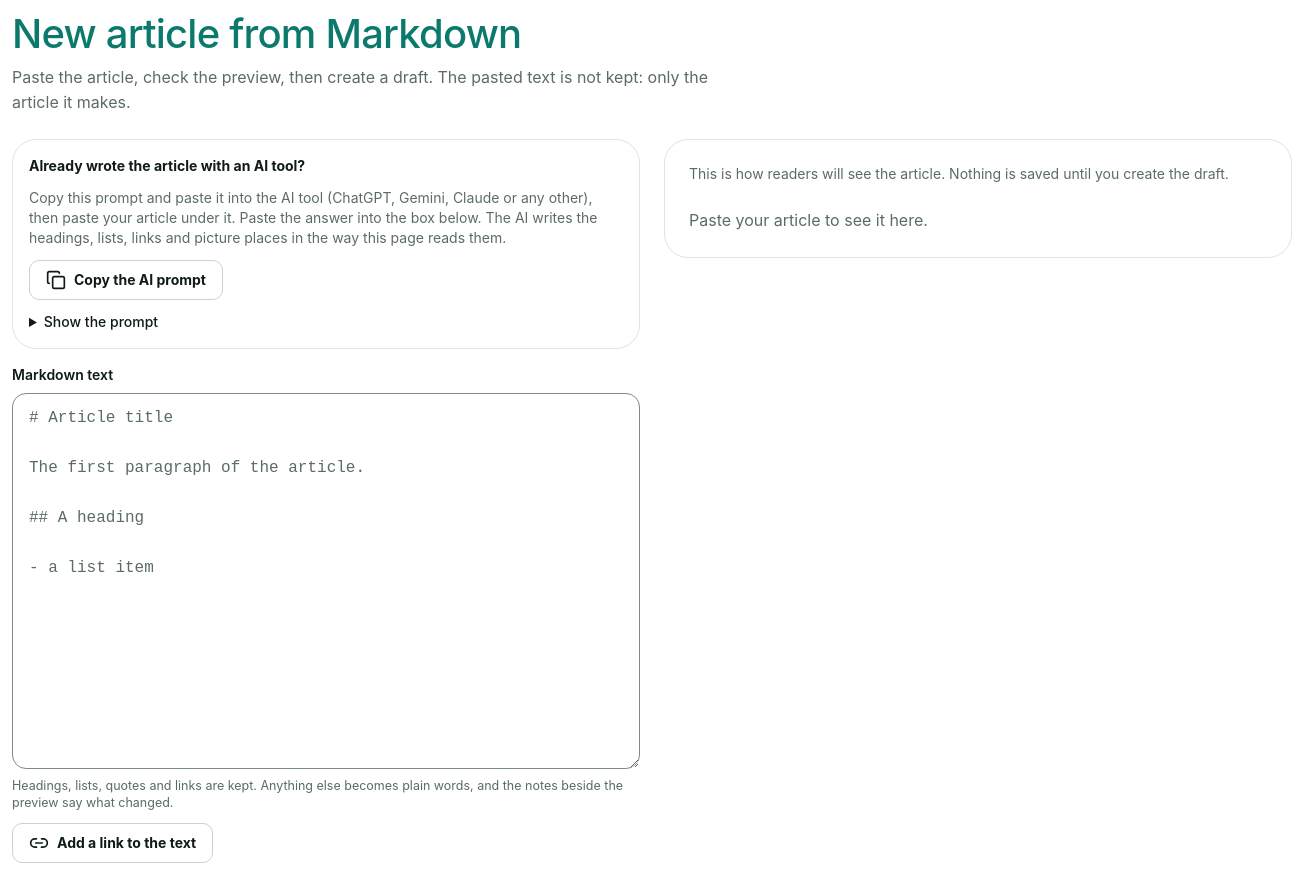
Test: BlogMarkdownFlow: the paste screen (ADR-172) › adds a link to the pasted text with the Add link form (ADR-173)
The width and height of the screenshot is (1292, 870).
Replace the text in the text box labelled "Markdown text" with "Read the guide.": x=326, y=581 [12,393,640,769]
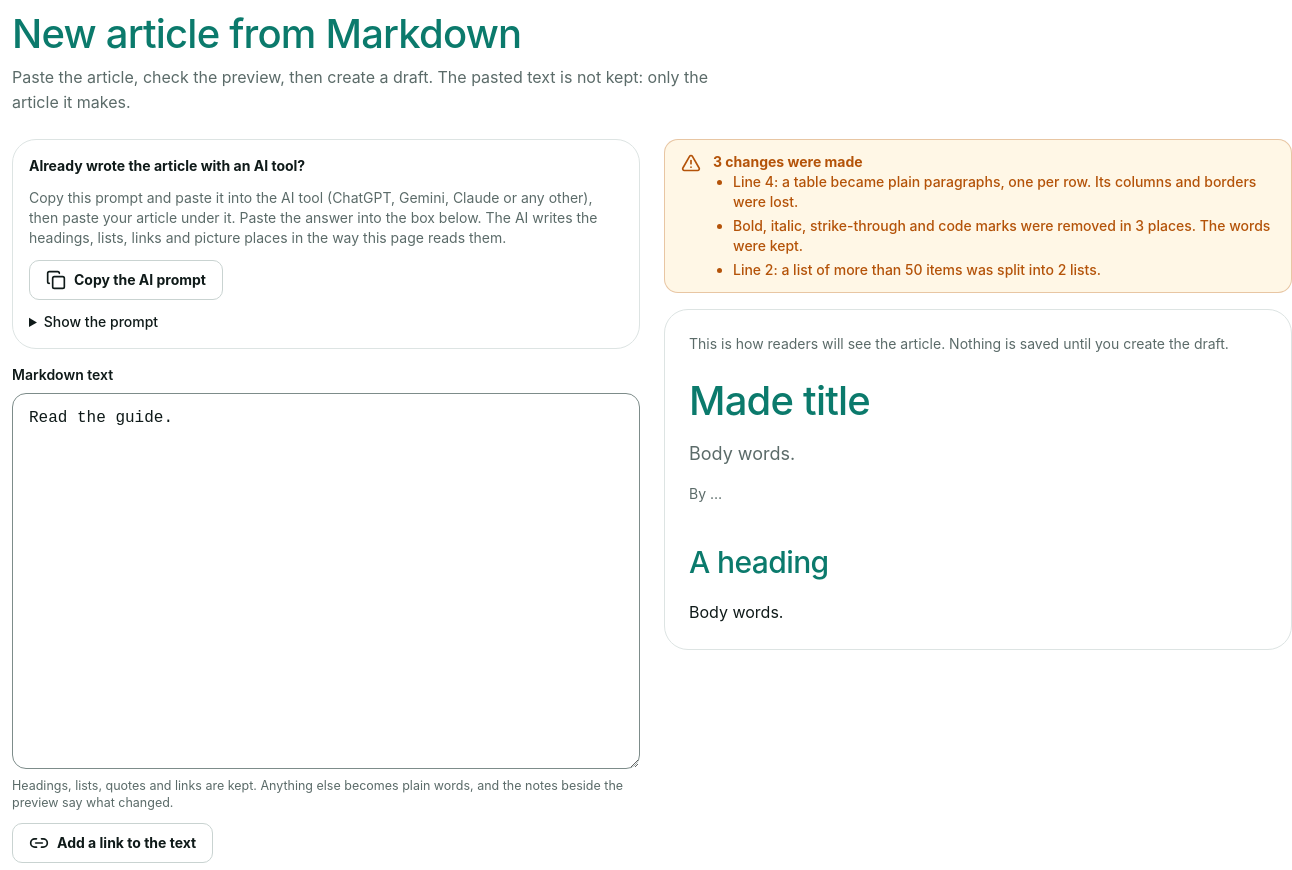
Click the button "Add a link to the text": x=113, y=843 [12,823,213,863]
(page scrolled)
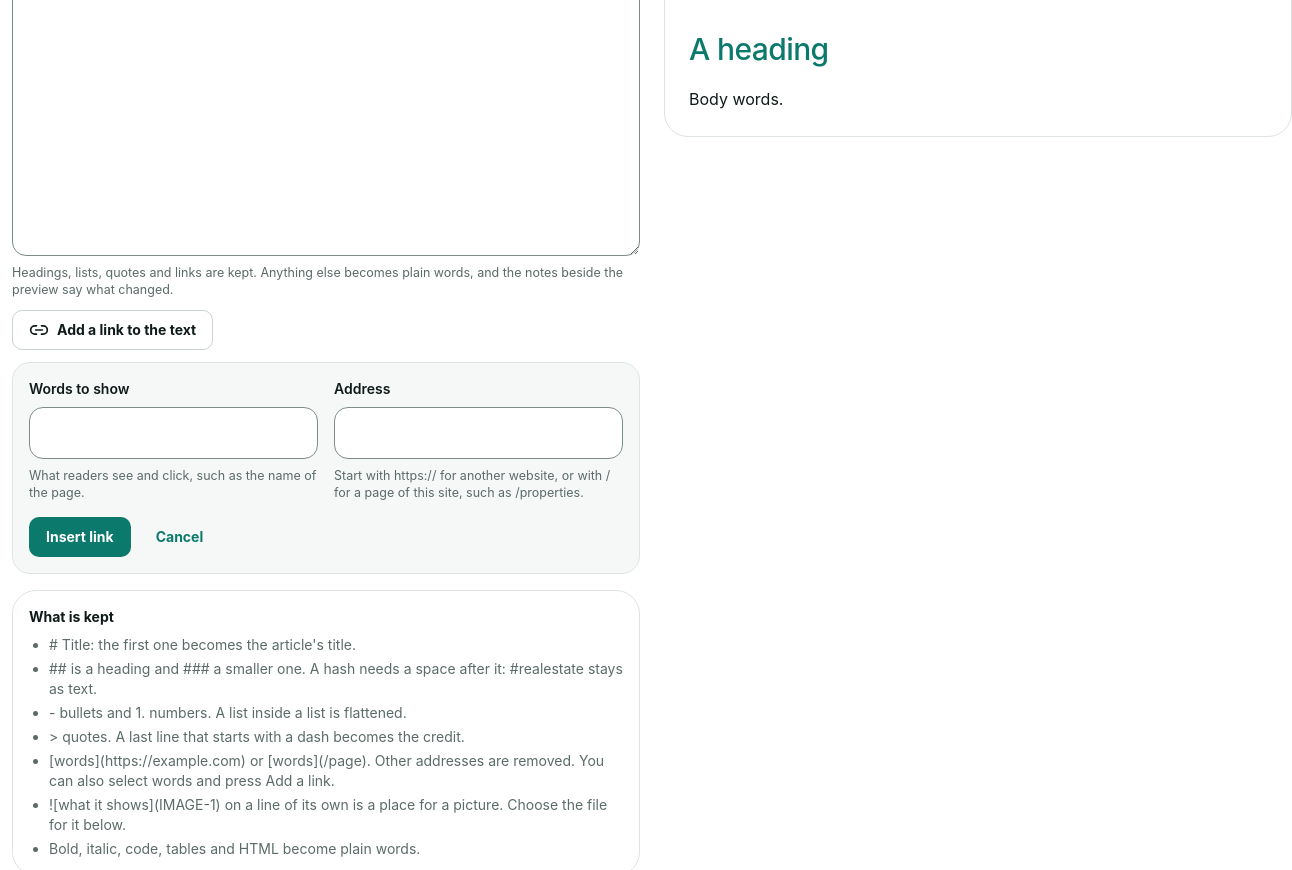
In the field labelled "Words to show": x=174, y=433 [29,407,318,459], type "the guide"
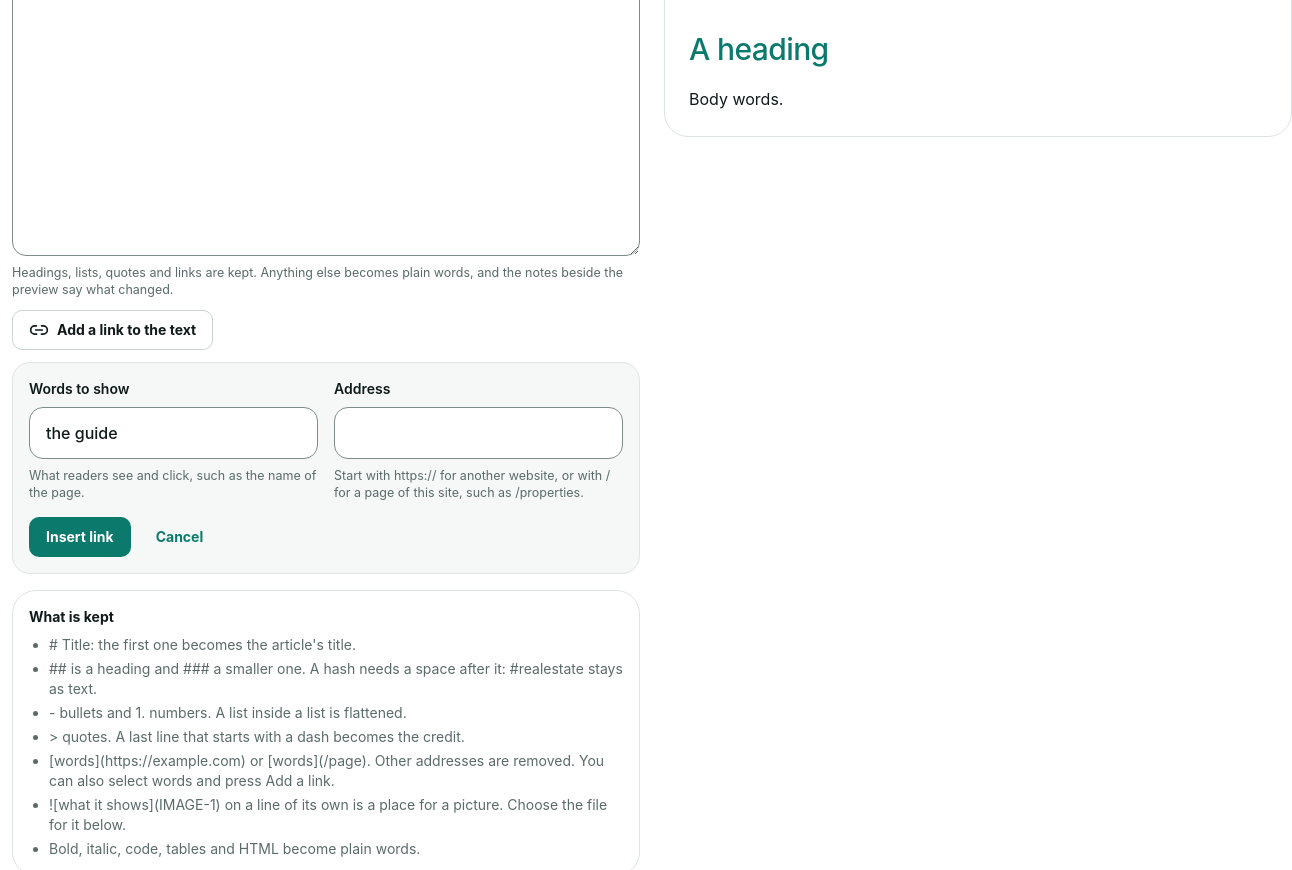
In the field labelled "Address": x=478, y=433 [334,407,623,459], type "https://example.com/guide"
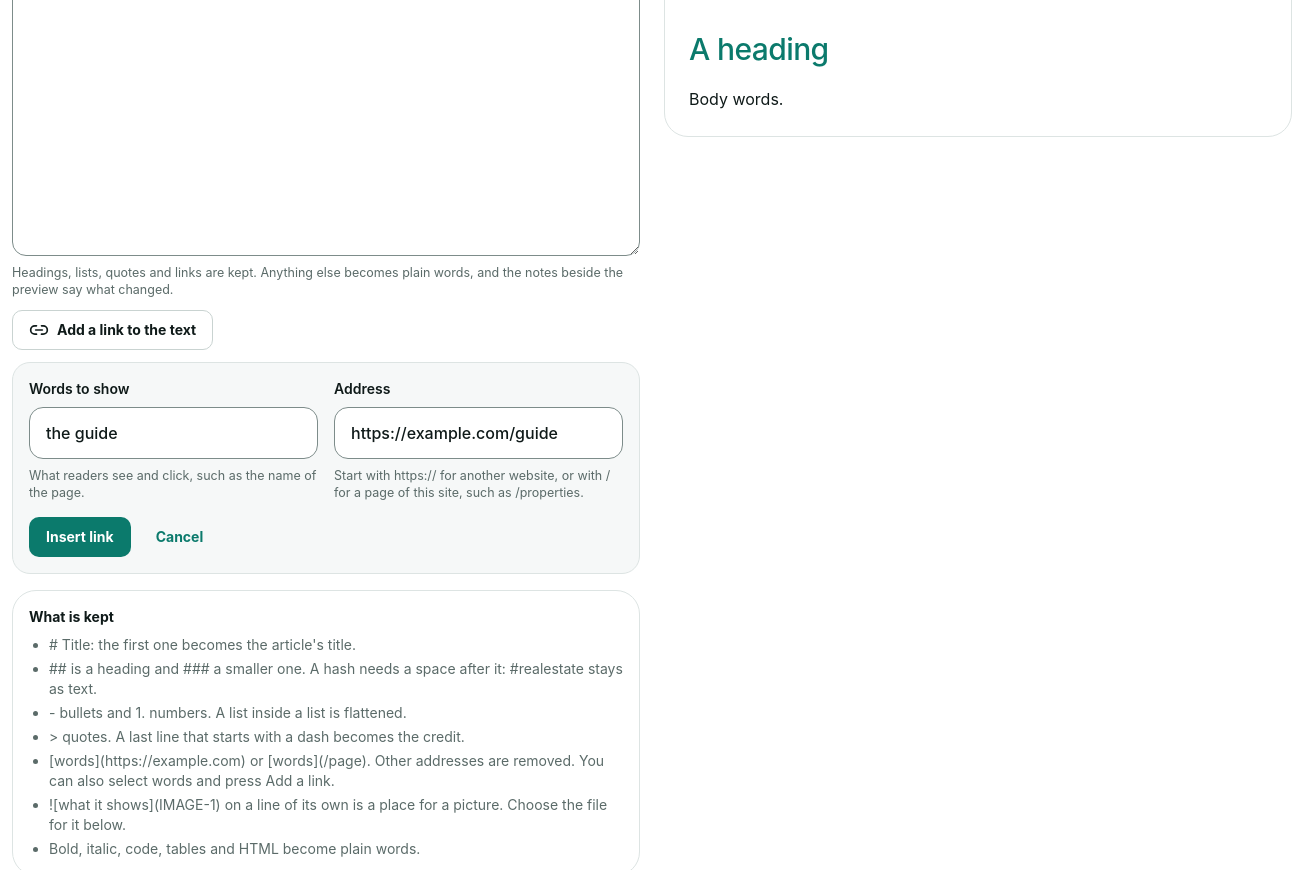
Click the button "Insert link": x=80, y=537 [29,517,131,557]
(page scrolled)
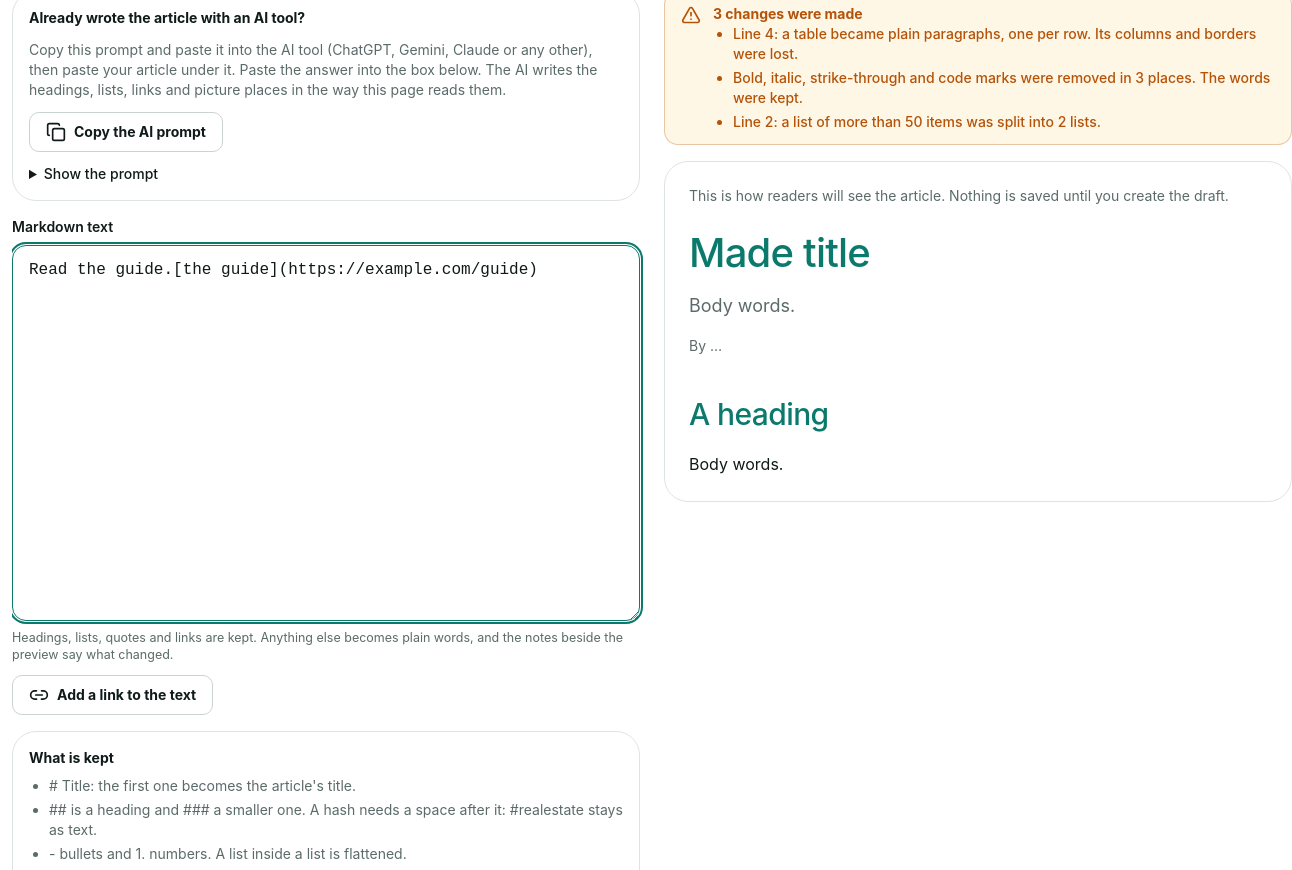
Check: the text box labelled "Markdown text" holds "Read the guide.[the guide](https://example.com/guide)", box [12,245,640,621]
